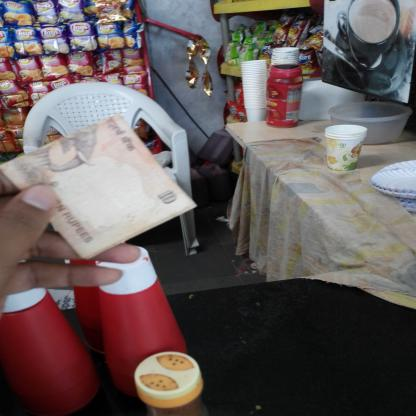Old10Back: (0, 113, 198, 260)
